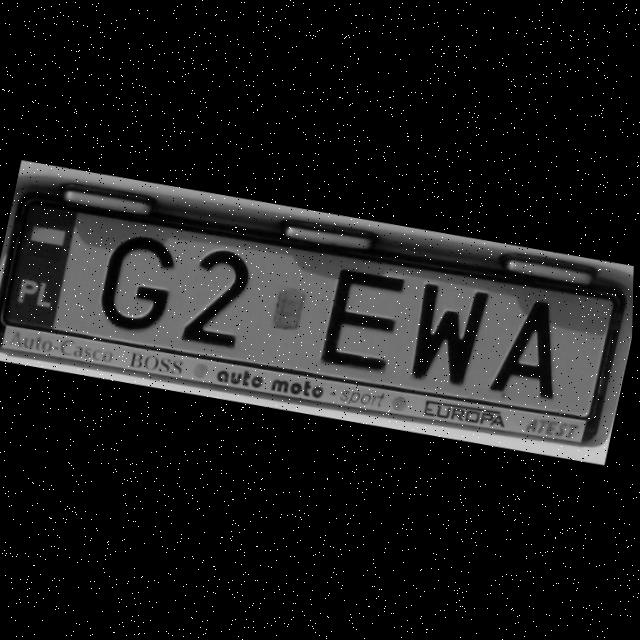license-plates: (3, 203, 614, 418)
